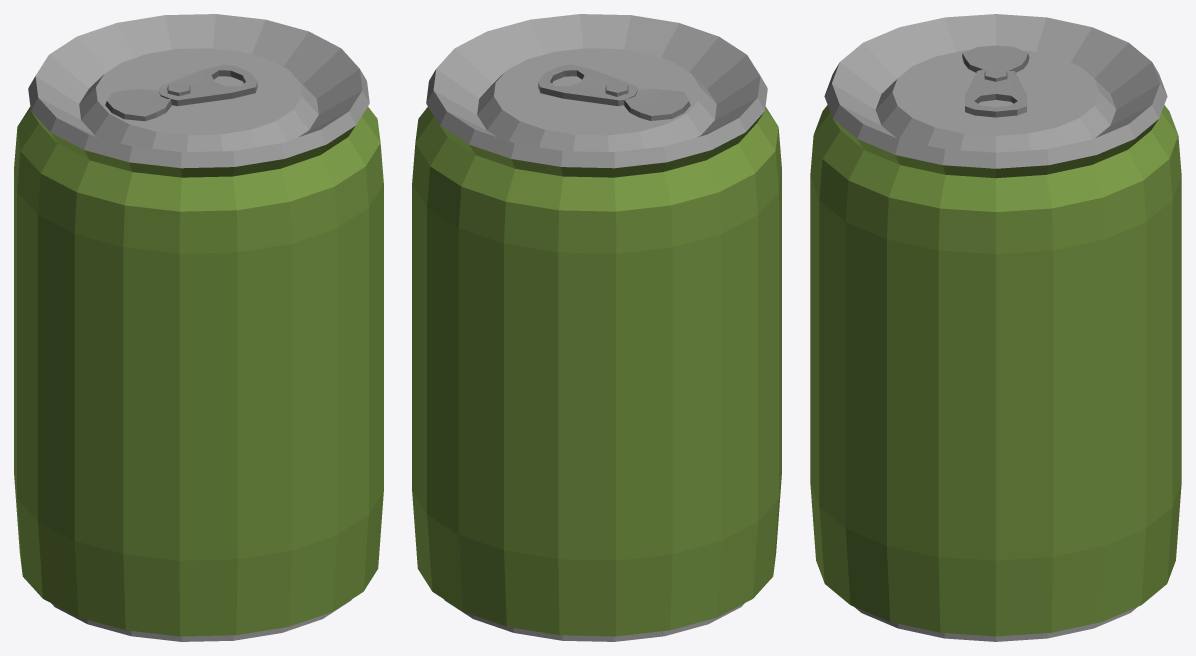
The model's file is Can_03.fbx.
3 renders of one model, left to right at view 1: azimuth 30°, elevation 25°; view 2: azimuth 150°, elevation 25°; view 3: azimuth 270°, elevation 25°, orthographic.
Parts seen in each view (by area): view 1: Can_03; view 2: Can_03; view 3: Can_03.
Part boxes in pixels (left/top/right/bottom): Can_03: left=14, top=14, right=383, bottom=641; Can_03: left=412, top=14, right=781, bottom=641; Can_03: left=810, top=14, right=1181, bottom=641.
Bounding box in the file's own units: 9.52 × 13.81 × 9.52.
